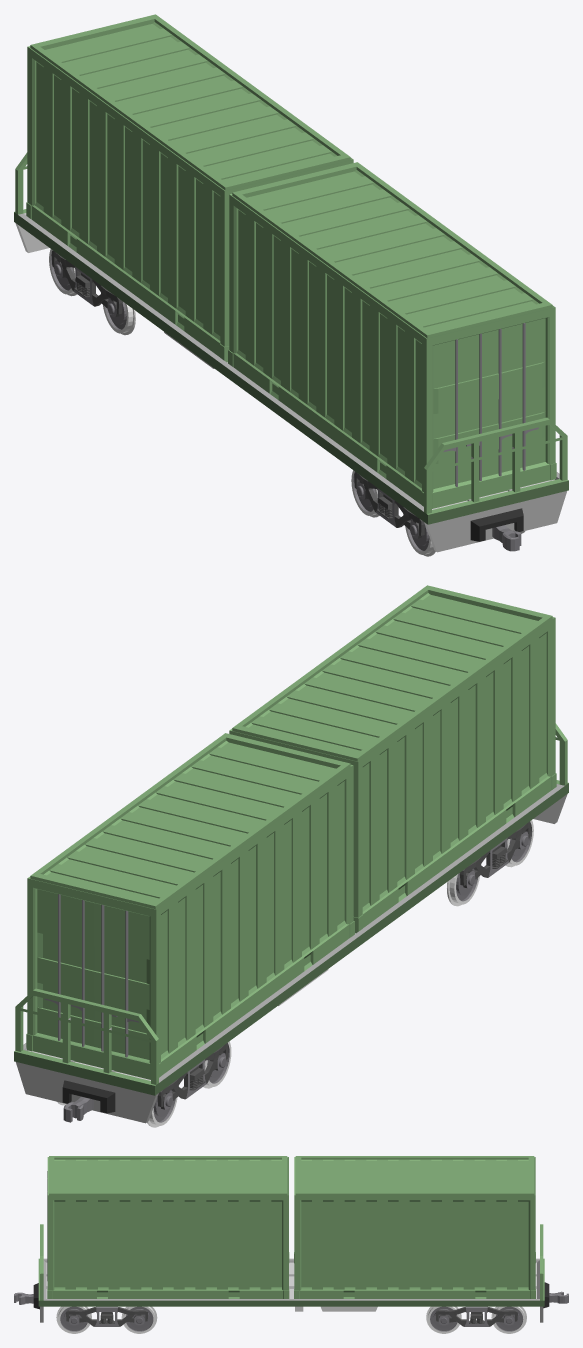
Rendered from Platform_car.glb.
3 renders of one model, top to bottom at view 1: azimuth 30°, elevation 25°; view 2: azimuth 150°, elevation 25°; view 3: azimuth 270°, elevation 25°, orthographic. The views are drawn at different scales.
Parts seen in each view (by area): view 1: Container, Container.001, Body, Coupling, Cart.001, Cart.002, Cylinder.002; view 2: Container.001, Container, Body, Coupling.001, Cart.001, Cart.002, Cylinder.001; view 3: Container, Container.001, Body, Cart.002, Cart.001, Cylinder.001, Cylinder.002, Cylinder.003, Cylinder, Coupling, Coupling.001.
Boxes of the visible parts, x1,y1,x2,y2 form: Container: (228,162,556,508); Container.001: (26,14,353,362); Body: (14,152,568,552); Coupling: (470,508,523,551); Cart.001: (354,472,424,538); Cart.002: (51,251,122,317); Cylinder.002: (103,297,135,335); Container.001: (26,733,354,1079); Container: (229,585,556,933); Body: (14,723,568,1123); Coupling.001: (62,1080,115,1122); Cart.001: (459,822,530,888); Cart.002: (157,1043,228,1109); Cylinder.001: (447,868,479,906); Container: (47,1156,289,1298); Container.001: (294,1156,535,1298); Body: (38,1224,544,1322); Cart.002: (435,1306,517,1326); Cart.001: (66,1306,147,1326); Cylinder.001: (121,1306,157,1333); Cylinder.002: (426,1306,461,1333); Cylinder.003: (491,1306,526,1333); Cylinder: (56,1306,91,1333); Coupling: (14,1283,39,1309); Coupling.001: (543,1282,568,1308).
Size of the model in its own units: 1.55 by 2.5 by 8.64.
